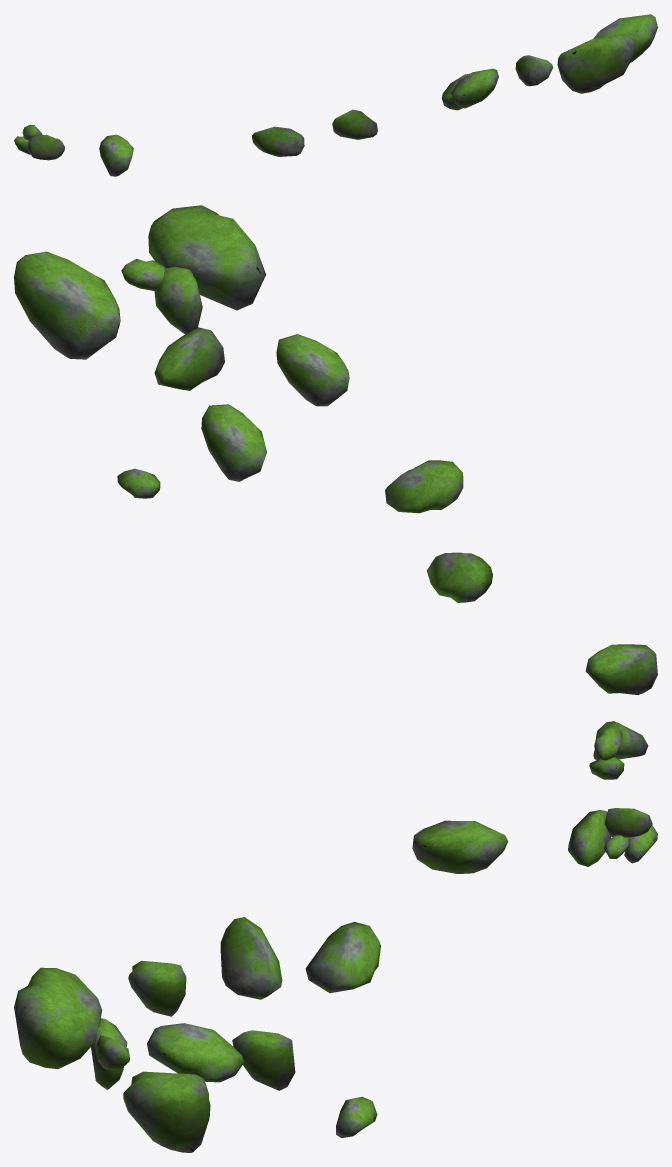
The model's file is stones_02.glb.
The picture shows the model from 3 angles, top to bottom: view 1: azimuth 30°, elevation 25°; view 2: azimuth 150°, elevation 25°; view 3: azimuth 270°, elevation 25°; orthographic projection. The views are drawn at different scales.
Visible parts, largest first — view 1: mossy_stone_a.jpg__; view 2: mossy_stone_a.jpg__; view 3: mossy_stone_a.jpg__.
Boxes of the visible parts, bbox=[...] form: mossy_stone_a.jpg__: bbox=[14, 14, 657, 176]; mossy_stone_a.jpg__: bbox=[14, 205, 657, 779]; mossy_stone_a.jpg__: bbox=[14, 808, 657, 1152].
Size of the model in its own units: 82.29 by 20.77 by 49.63.
1 material, 1 textured.
